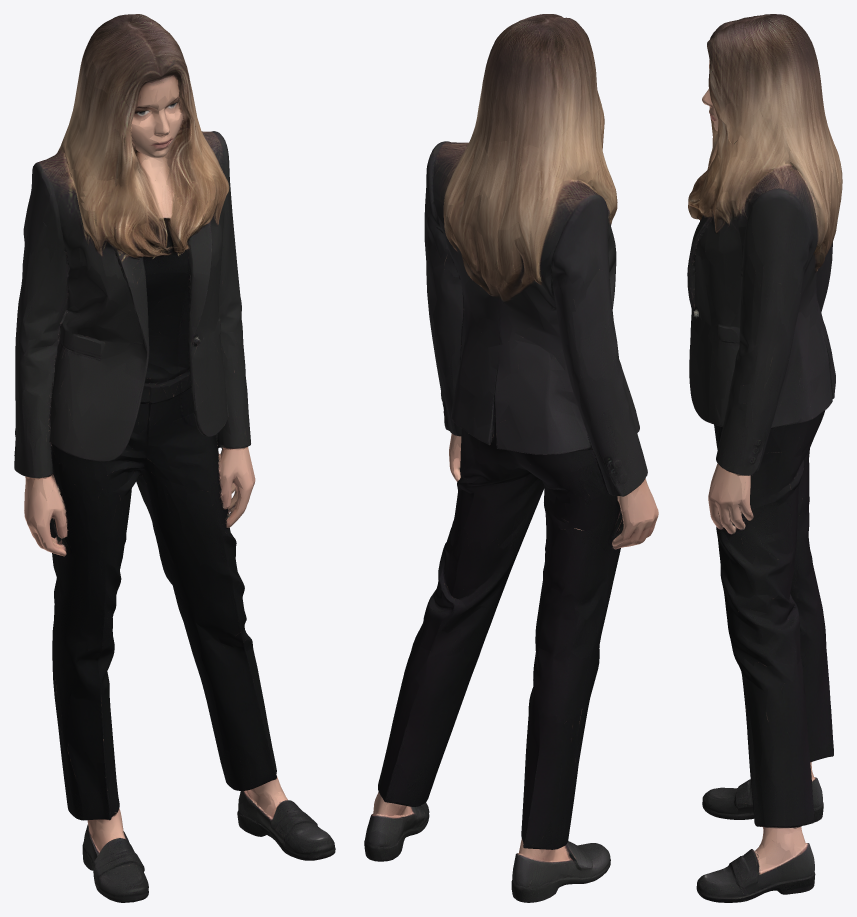
Rendered from retail-ecommerce.glb.
3 views of the same model, side by side, from view 1: azimuth 30°, elevation 25°; view 2: azimuth 150°, elevation 25°; view 3: azimuth 270°, elevation 25° (orthographic). The views are drawn at different scales.
Bounding box in the file's own units: 0.6618 × 1.9 × 0.3306.
1 material, 1 textured.
